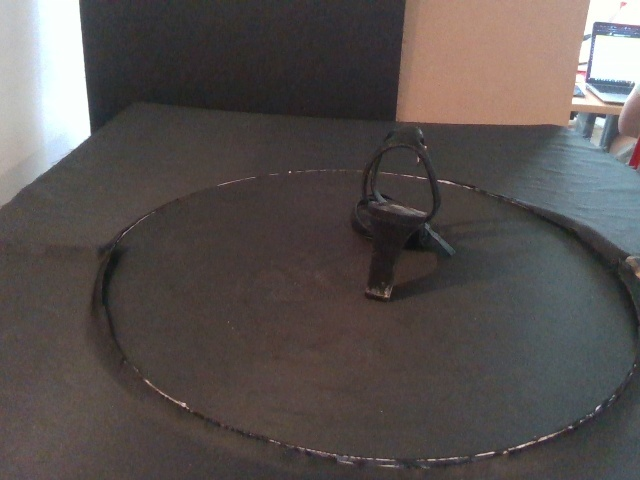shoe: (350, 123, 457, 303)
